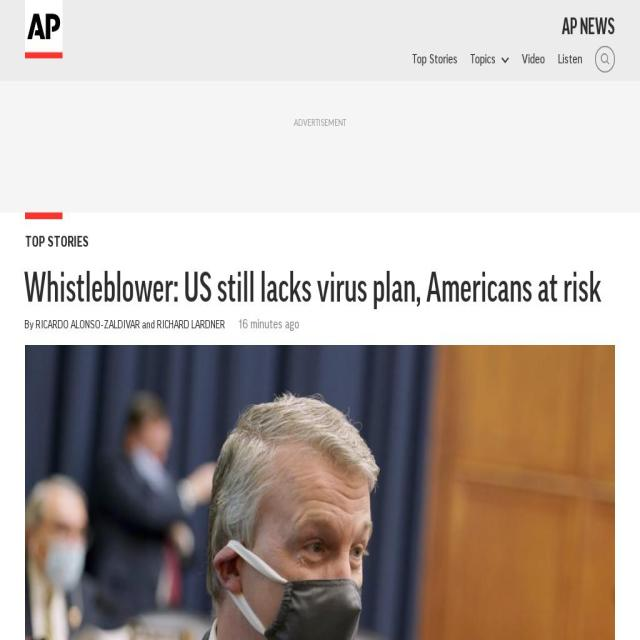button: (25, 345, 615, 640), (25, 263, 615, 310), (24, 0, 137, 58), (412, 40, 457, 81), (522, 40, 545, 81)
heading: (24, 263, 614, 310)
iframe: (17, 129, 623, 204)
image: (25, 345, 615, 640), (25, 0, 63, 58), (595, 46, 615, 72), (25, 213, 63, 219), (500, 57, 510, 63)
text: (25, 219, 615, 250), (17, 116, 623, 129), (24, 316, 239, 332), (562, 16, 615, 38), (558, 40, 582, 81), (239, 316, 299, 332), (470, 52, 496, 66)
